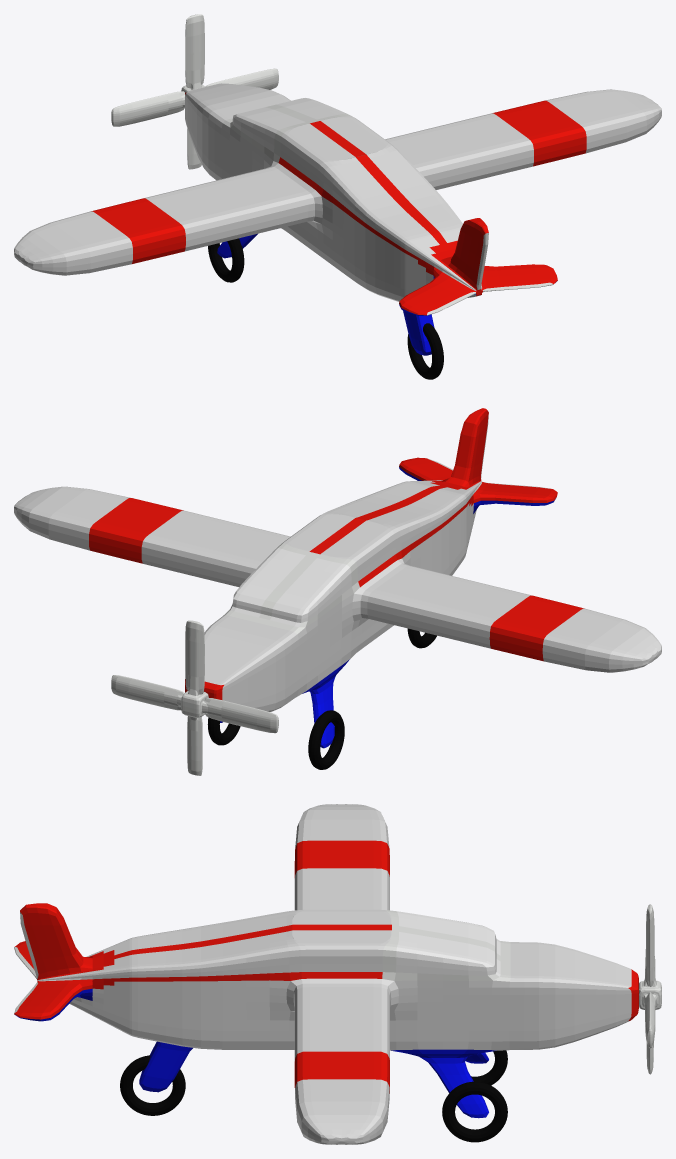
Rendered from Simple Aeroplane.fbx.
The picture shows the model from 3 angles, top to bottom: view 1: azimuth 30°, elevation 25°; view 2: azimuth 150°, elevation 25°; view 3: azimuth 270°, elevation 25°; orthographic projection. The views are drawn at different scales.
Parts seen in each view (by area): view 1: Cube; view 2: Cube; view 3: Cube.
Part boxes in pixels (<box>): Cube: <box>14,14,661,379</box>; Cube: <box>14,408,661,775</box>; Cube: <box>14,804,661,1144</box>.
Bounding box in the file's own units: 6714 × 1975 × 5509.
